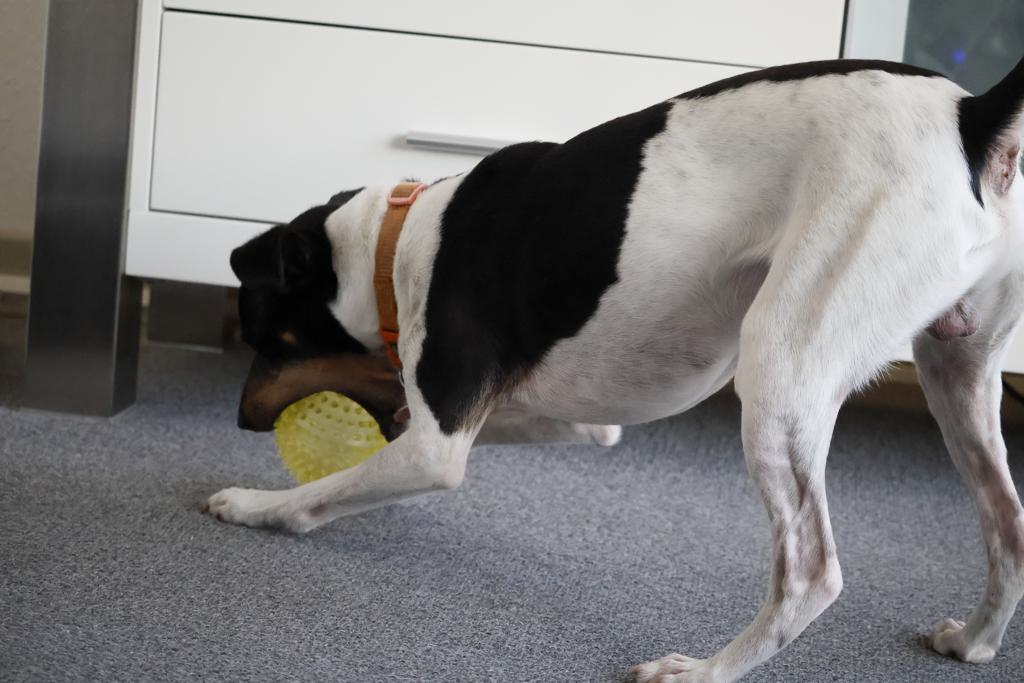Dog: (192, 48, 1024, 683)
